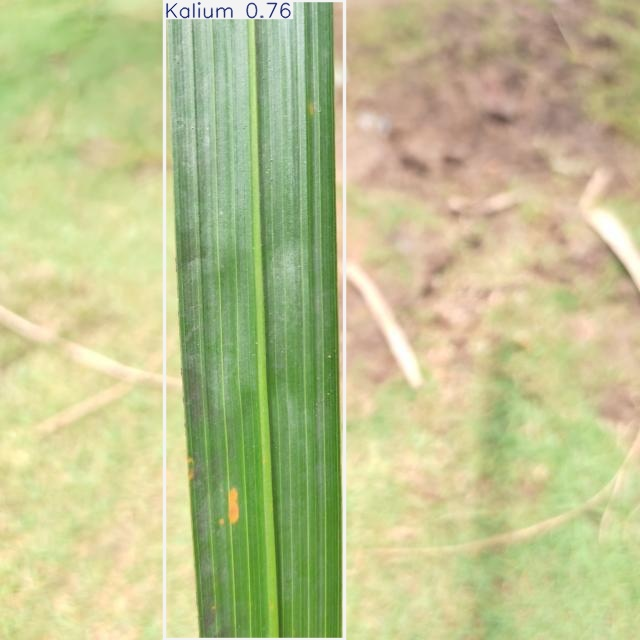Kalium: (164, 0, 344, 640)
